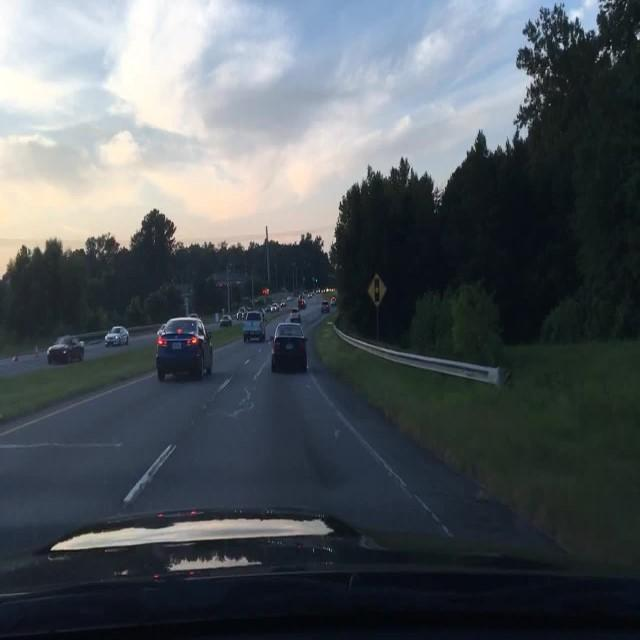normal: (157, 318, 216, 382), (270, 322, 307, 372), (47, 336, 86, 365), (240, 310, 265, 341), (103, 326, 129, 348)
